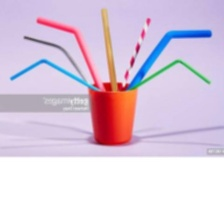drinking_straw: (5, 54, 104, 92), (123, 55, 214, 94), (97, 6, 120, 94)
glass: (86, 78, 140, 148)
